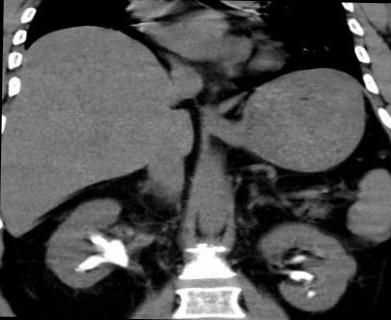Tas_Var: (86, 234, 138, 270), (70, 253, 107, 276), (286, 268, 317, 286), (284, 252, 310, 266), (302, 288, 317, 302), (314, 250, 322, 258)
